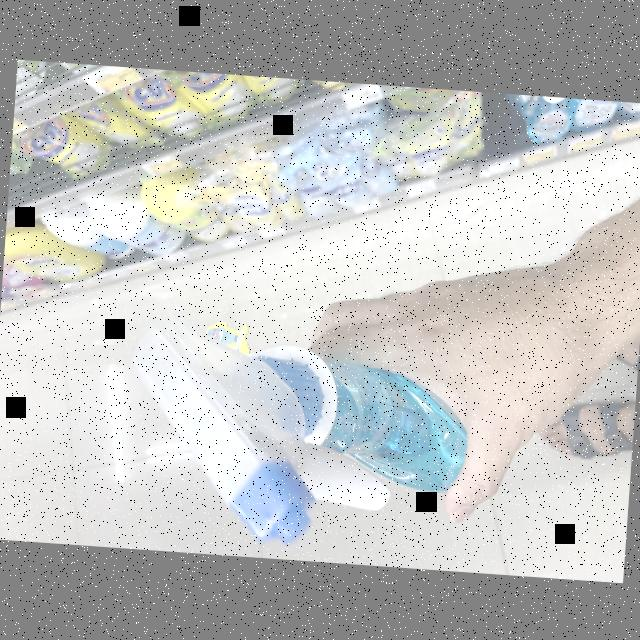chemical_plastic_bottle: (116, 301, 518, 561)
